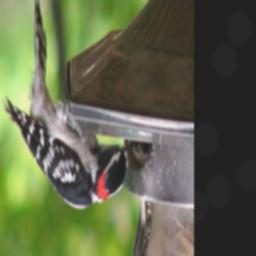Woodpecker: (1, 0, 135, 212)
